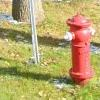a fire hydrant: (66, 16, 96, 78)
